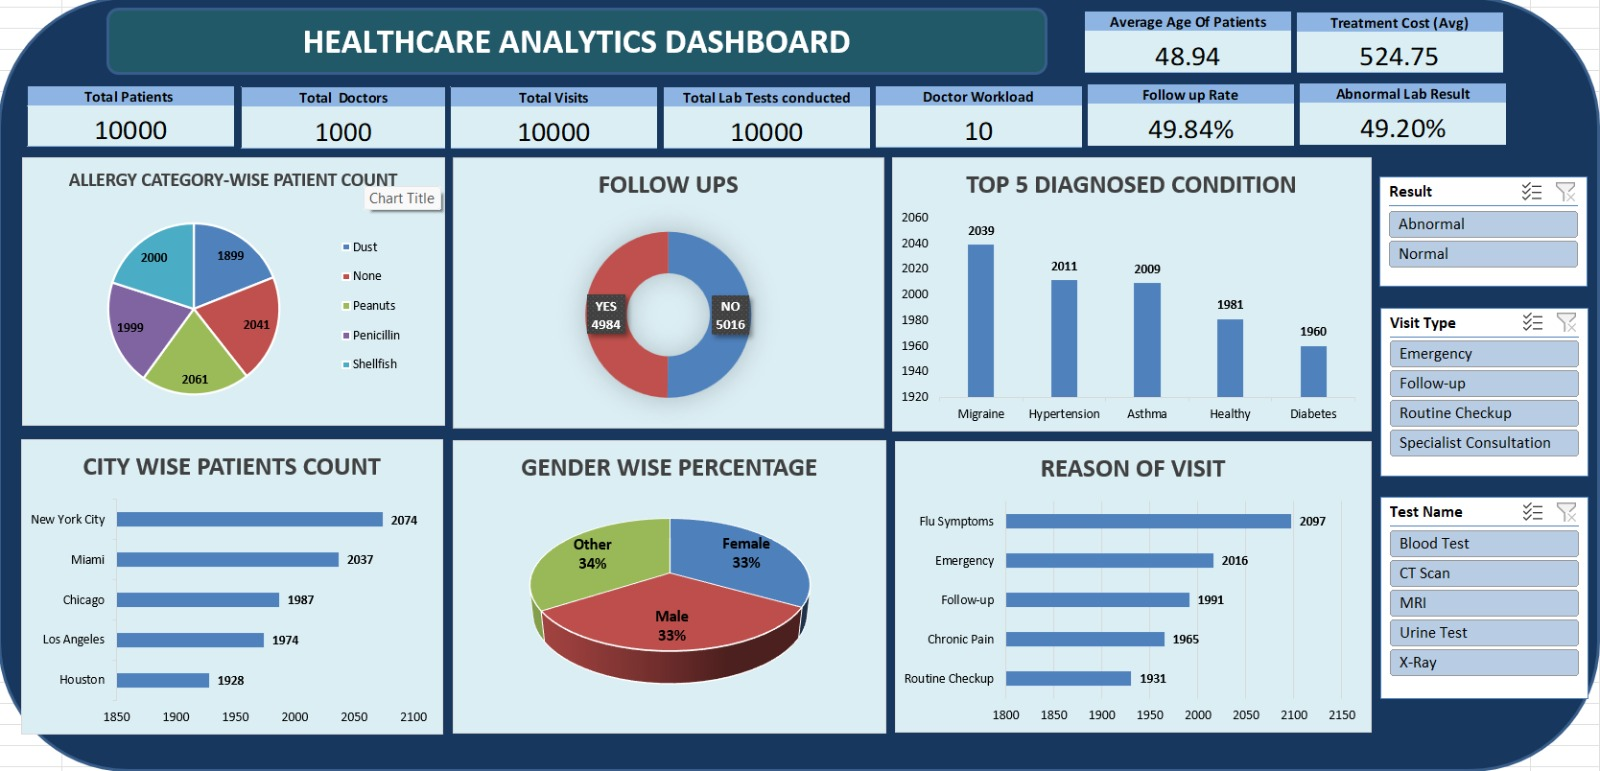

Layout of this report page (visuals, bound fields, positions):
{"tool":"tableau","page":{"name":"Dashboard 1","canvas":[1000,1000],"units":"permille","ordinal":0},"visuals":[{"type":"text","box":[4.8,10,990.3,95.7]},{"type":"worksheet","title":"Donut","mark":"Pie","rows":["Calculation_1027383685185384452","Calculation_1027383685185384452"],"box":[4.8,105.7,165.5,417.8]},{"type":"worksheet","title":"Lab Results","mark":"Automatic","box":[170.3,105.7,130.6,166.3]},{"type":"worksheet","title":"Reason for Vist","mark":"Square","rows":["Reason for Visit"],"box":[301,105.7,148,457.8]},{"type":"worksheet","title":"Tot Patients","mark":"Automatic","box":[449,105.7,132.4,152.6]},{"type":"worksheet","title":"Map","mark":"Automatic","box":[581.5,105.7,317.2,457.8]},{"type":"filter","title":"Abnormal","param":"[federated.0d7nf9d1tak6vo12dalkw18d9vq9].[none:Gender:nk]","box":[898.6,105.7,96.6,158.6]},{"type":"worksheet","title":"Tot Visit","mark":"Automatic","box":[449,258.2,132.4,152.6]},{"type":"filter","title":"Top 5 DD","param":"[federated.0d7nf9d1tak6vo12dalkw18d9vq9].[none:Diagnosis:nk]","box":[898.6,264.2,96.6,196]},{"type":"worksheet","title":"Abnormal","mark":"Automatic","box":[170.3,272,130.6,166.3]},{"type":"worksheet","title":"Tot Doc","mark":"Automatic","box":[449,410.8,132.4,152.6]},{"type":"worksheet","title":"Follow Up Rate","mark":"Automatic","box":[170.3,438.3,130.6,125.1]},{"type":"filter","title":"Yearly treat cost","param":"[federated.0d7nf9d1tak6vo12dalkw18d9vq9].[yr:Visit Date:ok]","box":[898.6,460.2,96.6,162.3]},{"type":"dashboard-object","box":[4.8,523.5,165.5,40]},{"type":"worksheet","title":"Yearly treat cost","mark":"Bar","rows":["Treatment Cost"],"cols":["Diagnosis","Visit Date"],"box":[4.8,563.4,444.2,245.6]},{"type":"worksheet","title":"Workload","mark":"Automatic","box":[449,563.4,132.4,137.3]},{"type":"worksheet","title":"Visit Status","mark":"Pie","box":[581.4,563.4,158.6,426.6]},{"type":"worksheet","title":"Top 5 DD","mark":"Automatic","rows":["Diagnosis"],"cols":["Visit ID"],"box":[740,563.4,158.6,426.6]},{"type":"filter","title":"Abnormal","param":"[federated.0d7nf9d1tak6vo12dalkw18d9vq9].[none:Visit Type:nk]","box":[898.6,622.5,96.6,172.3]},{"type":"worksheet","title":"Avg Age","mark":"Automatic","box":[449,700.8,132.4,161.1]},{"type":"image","param":"Image/Health-insurance.png","box":[898.6,794.8,96.6,110.3]},{"type":"worksheet","title":"Line Chart","mark":"Line","rows":["Visit ID"],"cols":["Visit Date"],"box":[4.8,809,444.2,181]},{"type":"worksheet","title":"Avg Treat Cost","mark":"Automatic","box":[449,861.8,132.4,128.2]},{"type":"text","box":[898.6,905.1,96.6,84.9]}]}

Visuals, with their boxes on the dashboard's canvas, which has no fixed pixel size, in thousandths of its width and height (x1, y1, x2, y2). These are canvas units, not pixel positions in the 1600x771 screenshot, which may show the page scaled, cropped or inside an application window:
text: rect(5, 10, 995, 106)
"Donut" worksheet (Pie marks): rect(5, 106, 170, 524)
"Lab Results" worksheet: rect(170, 106, 301, 272)
"Reason for Vist" worksheet (Square marks): rect(301, 106, 449, 564)
"Tot Patients" worksheet: rect(449, 106, 581, 258)
"Map" worksheet: rect(582, 106, 899, 564)
"Abnormal" filter: rect(899, 106, 995, 264)
"Tot Visit" worksheet: rect(449, 258, 581, 411)
"Top 5 DD" filter: rect(899, 264, 995, 460)
"Abnormal" worksheet: rect(170, 272, 301, 438)
"Tot Doc" worksheet: rect(449, 411, 581, 563)
"Follow Up Rate" worksheet: rect(170, 438, 301, 563)
"Yearly treat cost" filter: rect(899, 460, 995, 622)
dashboard-object: rect(5, 524, 170, 564)
"Yearly treat cost" worksheet (Bar marks): rect(5, 563, 449, 809)
"Workload" worksheet: rect(449, 563, 581, 701)
"Visit Status" worksheet (Pie marks): rect(581, 563, 740, 990)
"Top 5 DD" worksheet: rect(740, 563, 899, 990)
"Abnormal" filter: rect(899, 622, 995, 795)
"Avg Age" worksheet: rect(449, 701, 581, 862)
image: rect(899, 795, 995, 905)
"Line Chart" worksheet (Line marks): rect(5, 809, 449, 990)
"Avg Treat Cost" worksheet: rect(449, 862, 581, 990)
text: rect(899, 905, 995, 990)
